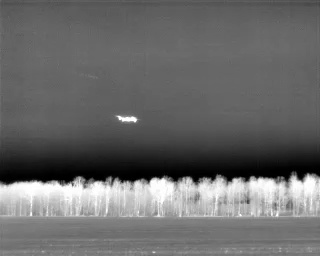DRONE: (112, 110, 143, 128)
